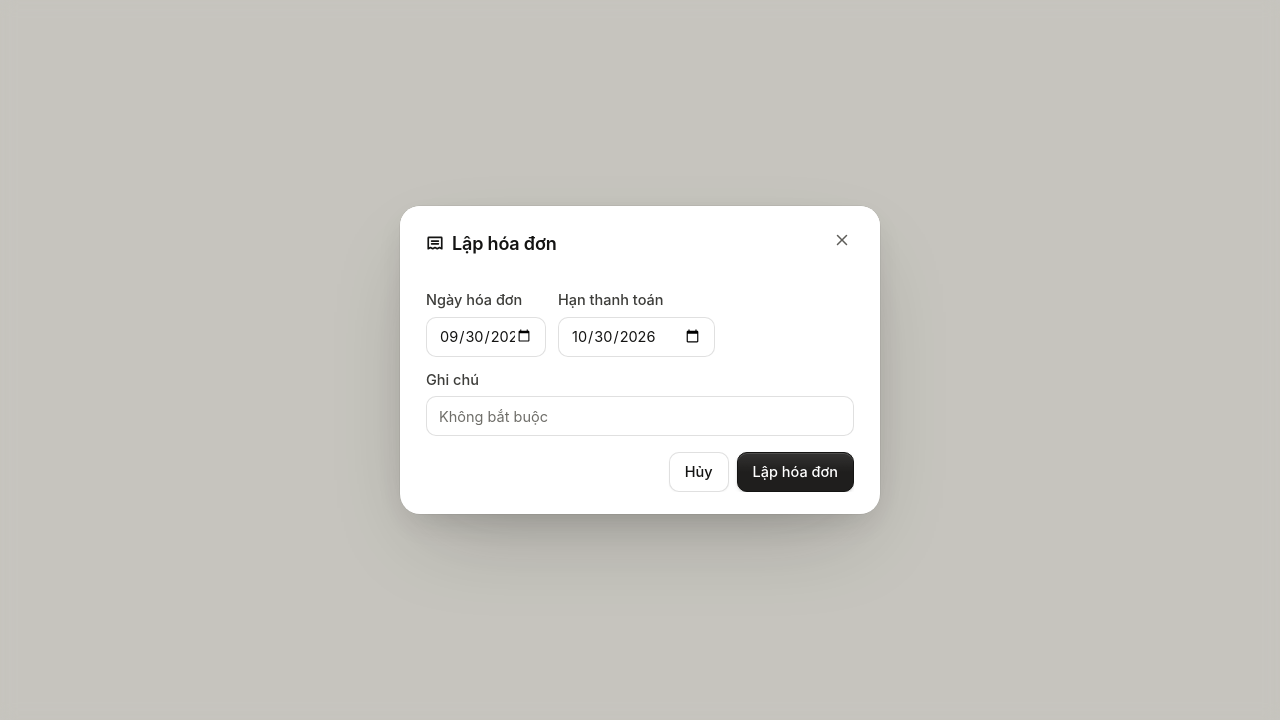
Test: InvoiceFormModal (NCL-10-CN-002 — Lập hóa đơn theo mốc hợp đồng) › hiển thị lỗi khi mốc chưa sẵn sàng xuất hóa đơn (INVALID_STATE)
Click the button "Lập hóa đơn". click: [795, 472]
box: 737,452 -> 854,492
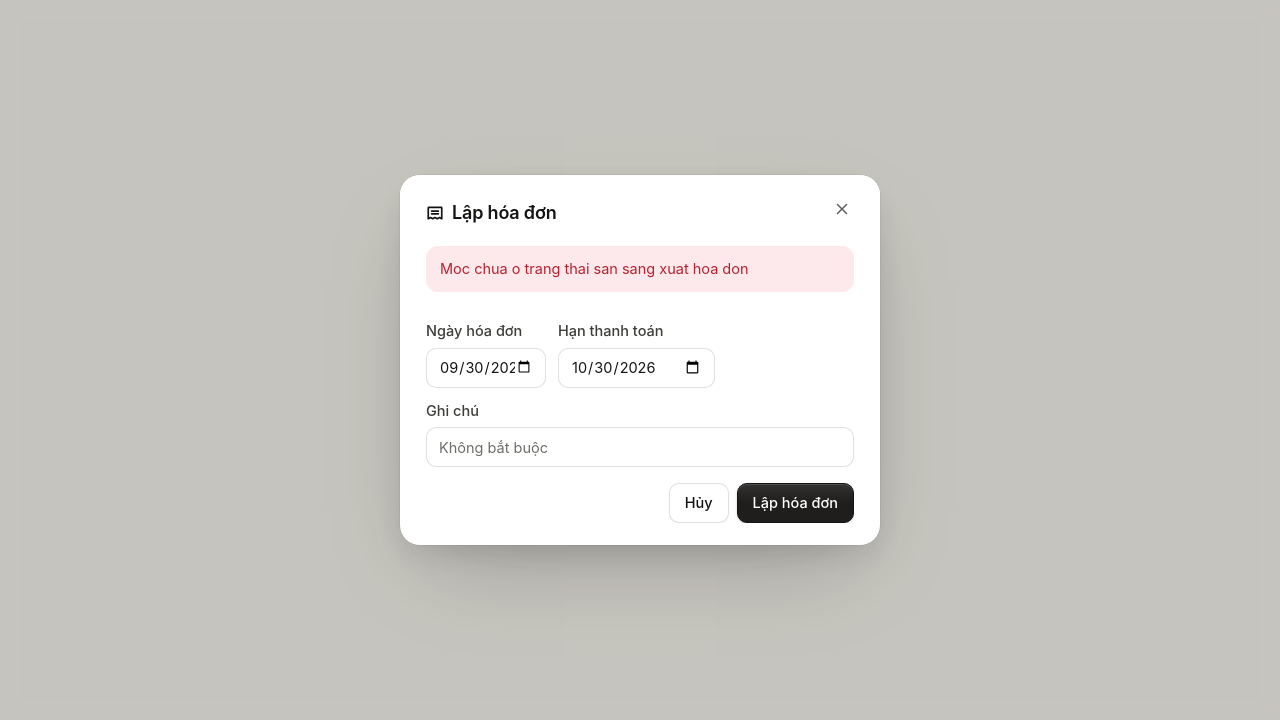
Result: the text "Moc chua o trang thai san sang xuat hoa don" is shown at 426,246 -> 854,292
